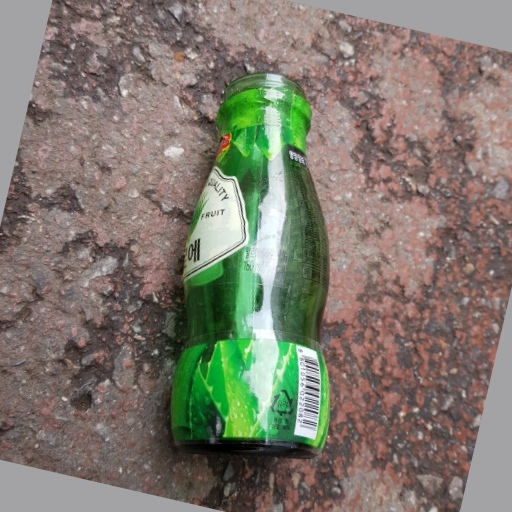Glass_4: (163, 69, 336, 460)
